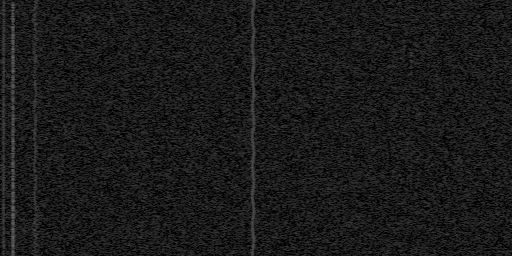wv_cw: (1, 0, 6, 256)
wv_usb: (10, 1, 16, 256), (409, 151, 413, 205), (409, 49, 414, 67), (409, 80, 413, 94), (409, 137, 413, 150), (409, 131, 413, 136), (410, 96, 413, 102), (409, 208, 413, 212), (409, 253, 413, 256), (410, 236, 413, 240), (409, 76, 413, 79), (410, 71, 413, 75), (410, 229, 413, 233), (410, 222, 413, 226), (410, 215, 413, 219), (410, 113, 413, 116), (410, 127, 413, 130)
wv_wbfm: (31, 0, 40, 256), (249, 0, 257, 256)
